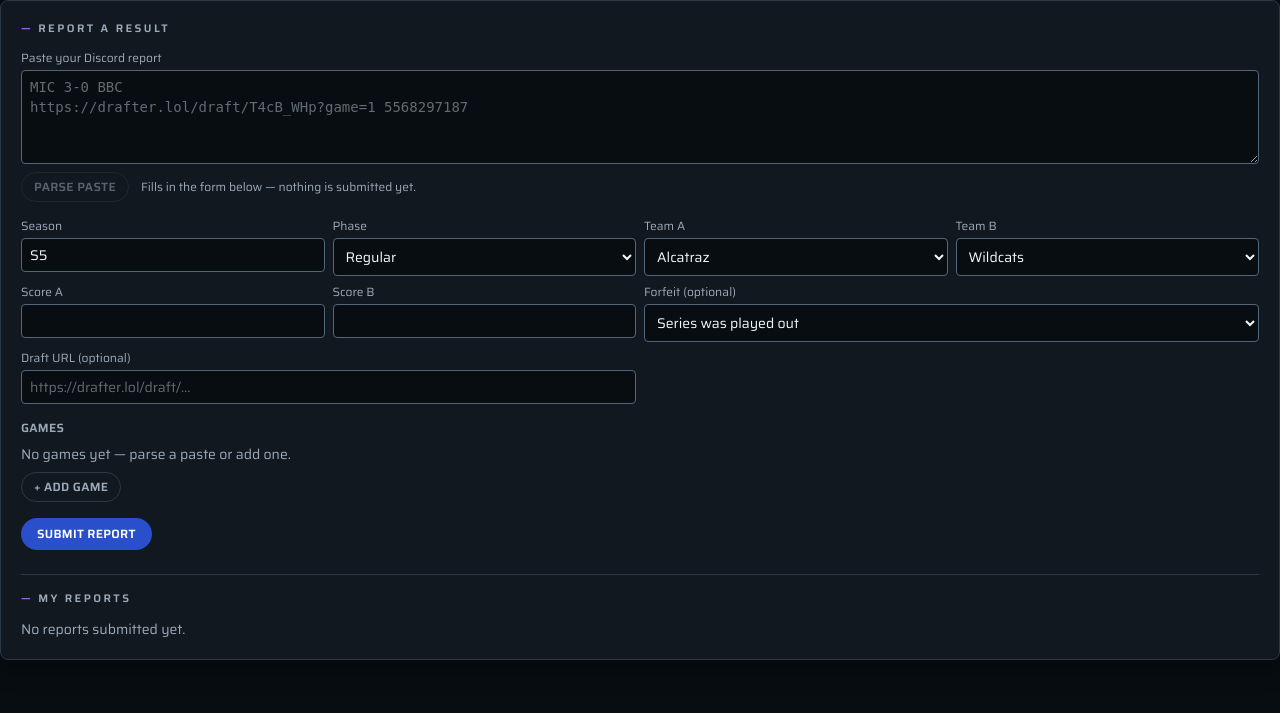
Test: ReportBox forfeits › refuses a forfeit scored as a win for the team that forfeited
Type "0" into the field labelled "Score A" at point(173, 320), box [21,304,324,338]
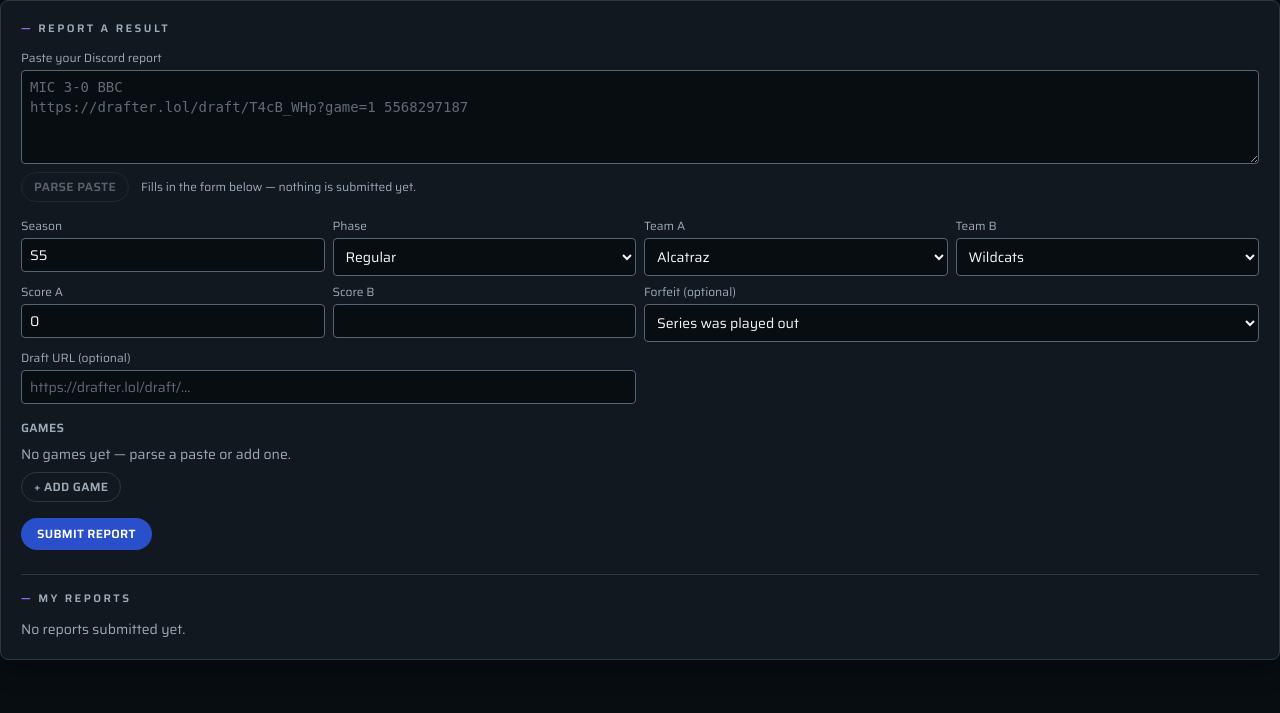
Type "2" into the field labelled "Score B" at point(484, 320), box [332,304,636,338]
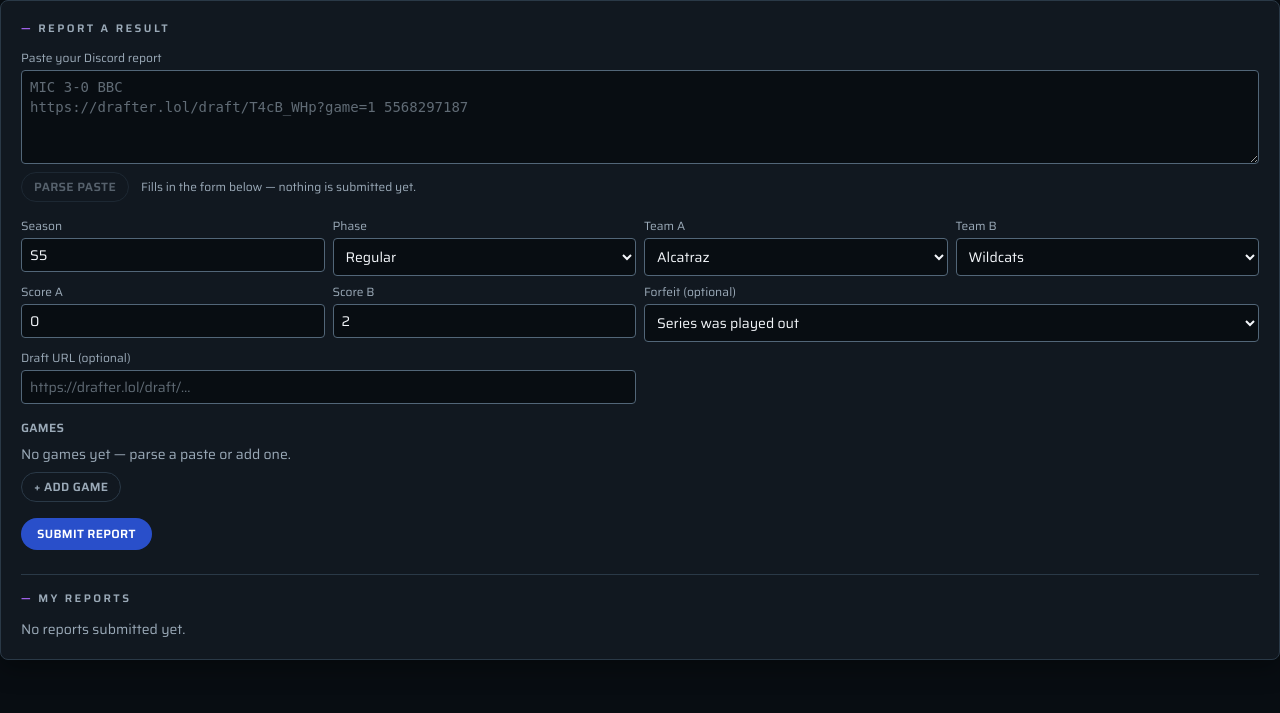
Select "Wildcats forfeited" in the dropdown labelled "Forfeit (optional)" at point(952, 322), box [644,304,1259,342]
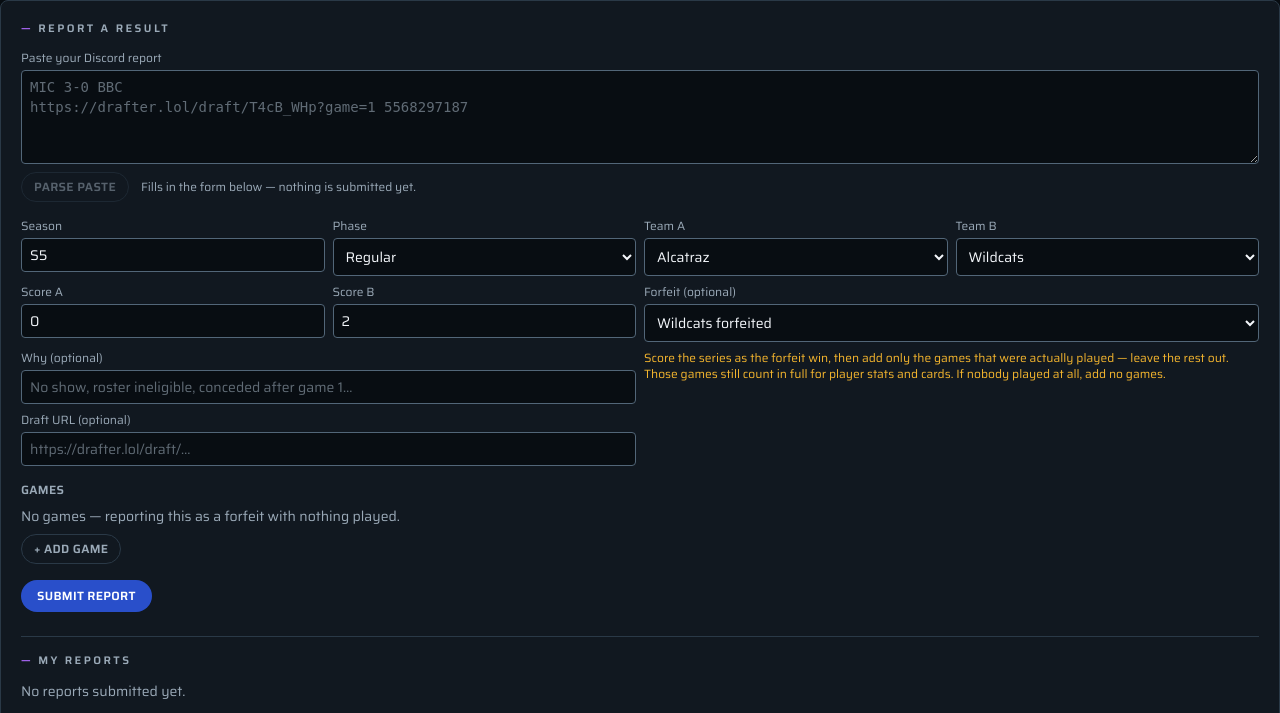
Click the button "Submit report" at point(86, 596), box [21,580,152,612]
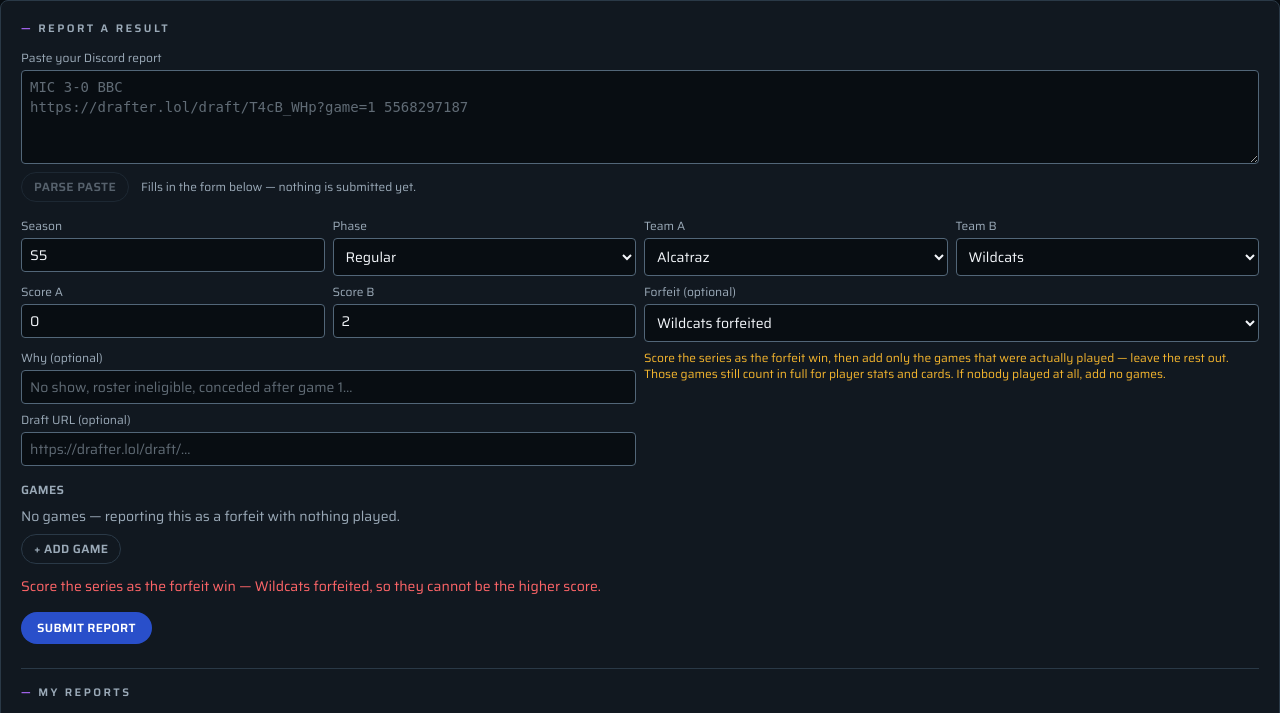
Expected: the list item "cannot be the higher score" is shown, [21,574,601,596]
